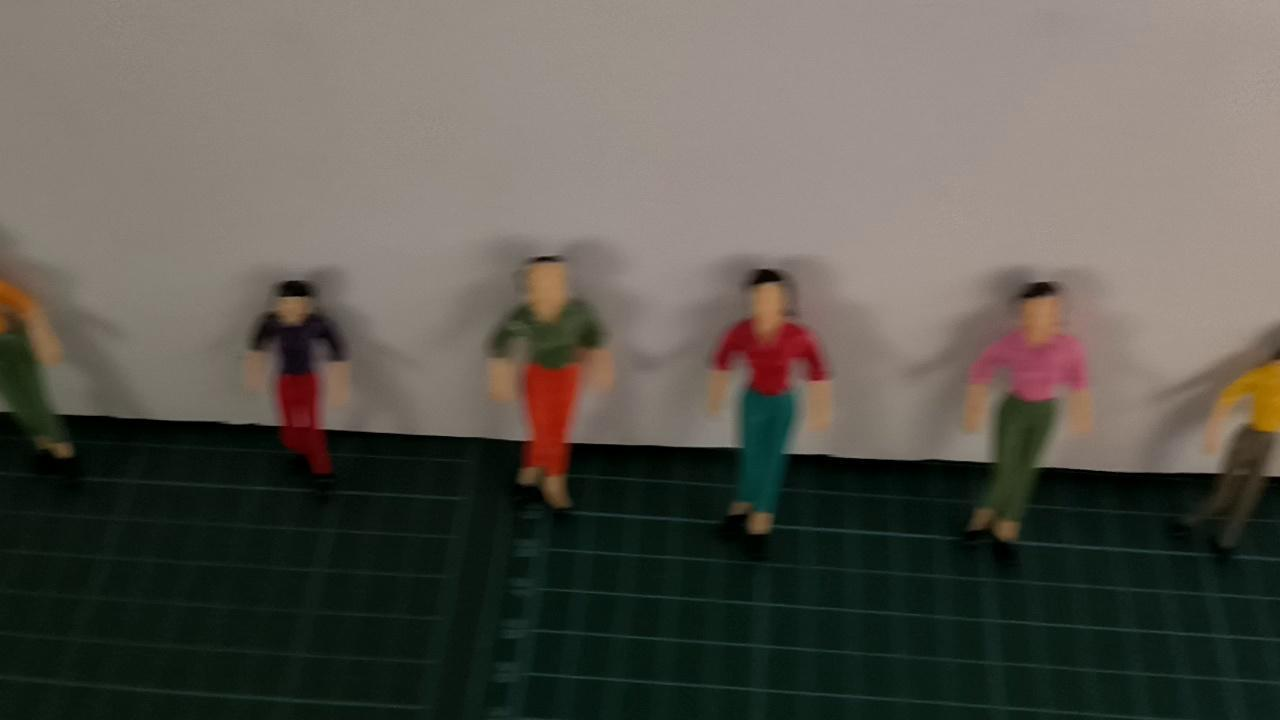human: (699, 268, 838, 554), (964, 280, 1096, 572), (478, 251, 622, 516), (233, 278, 362, 482), (1179, 350, 1280, 573), (0, 266, 74, 463)
